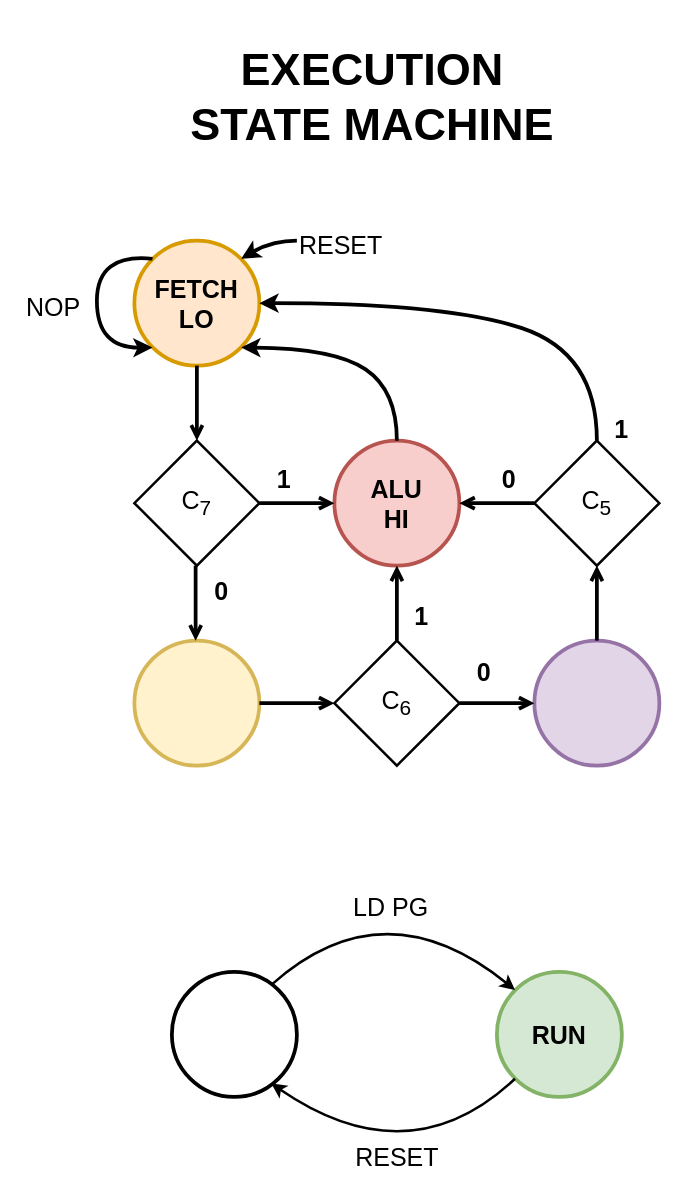
The diagram is 683 pixels wide and 1194 high, and some of its shapes have lost their labels. The shapes that lost their labels are listed below. From the top down, each one's centre as x and y in pixels, then its label:
At point 196,702: "FETCH HI".
At point 596,702: "ALU LO".
At point 233,1033: "BOOT".
